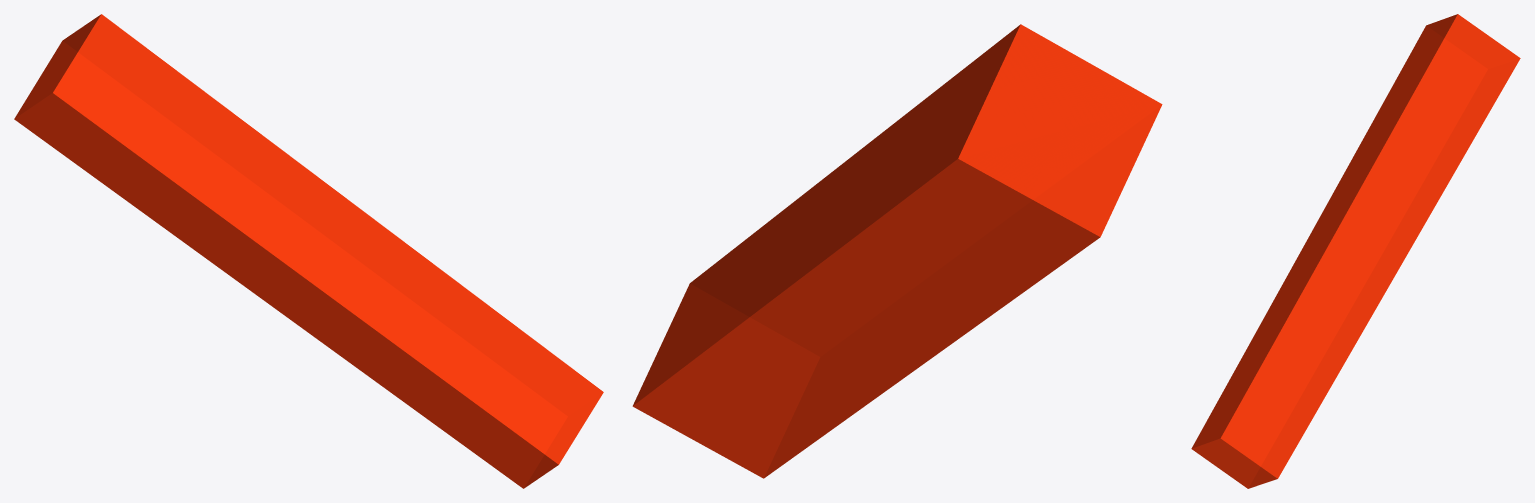
File: Event_421364160_EBrechit_2.fbx
The picture shows the model from 3 angles, left to right: view 1: azimuth 30°, elevation 25°; view 2: azimuth 150°, elevation 25°; view 3: azimuth 270°, elevation 25°; orthographic projection. The views are drawn at different scales.
Parts seen in each view (by area): view 1: Model; view 2: Model; view 3: Model.
Boxes of the visible parts, bbox=[...] form: Model: bbox=[14, 14, 603, 488]; Model: bbox=[632, 24, 1162, 478]; Model: bbox=[1191, 14, 1520, 488].
Size of the model in its own units: 0.3012 by 0.3064 by 0.2533.
